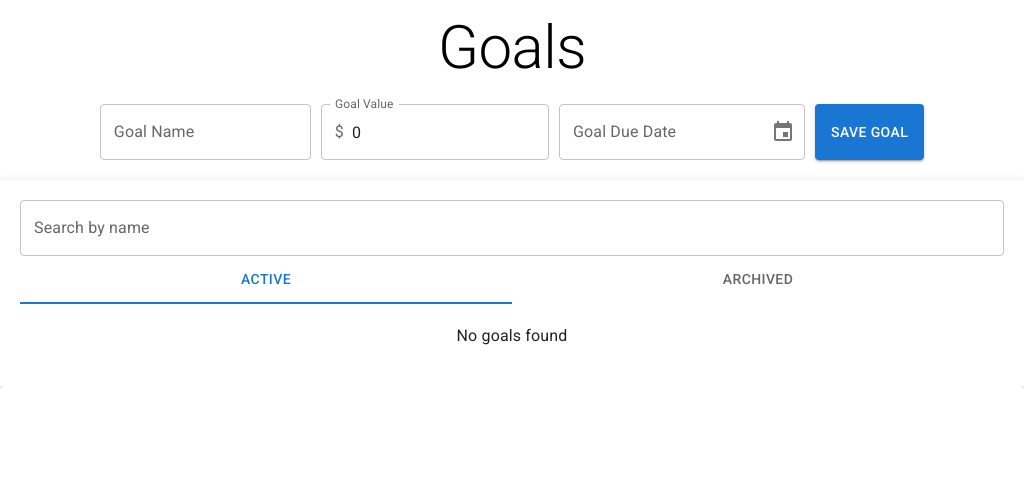
Scenario: Goals page › should set goals to archived when allGoals loads while on archived tab
Click the tab "Archived" at point(758, 280), box [512,256,1004,304]
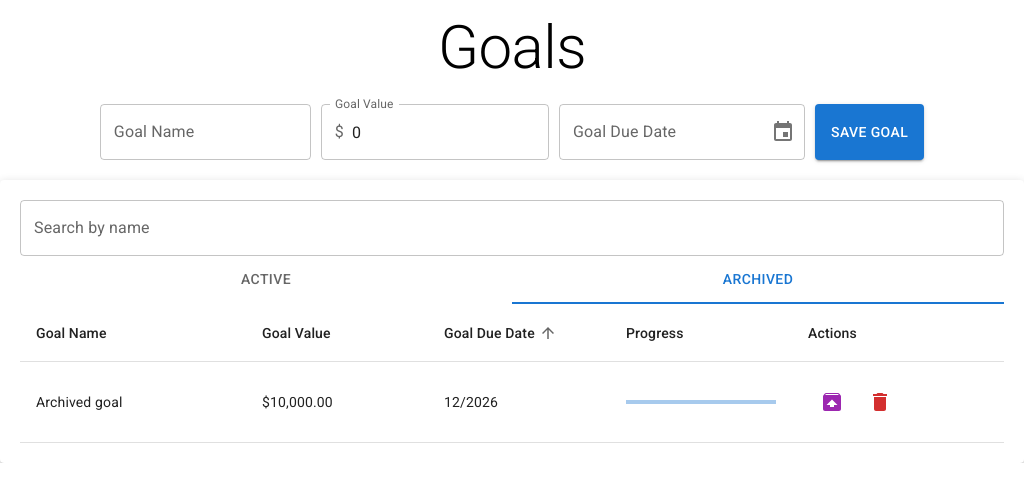
expect the text "Archived goal" is shown: met, box [20,362,246,443]
